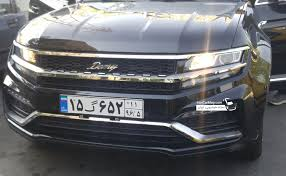car: (60, 94, 144, 119)
